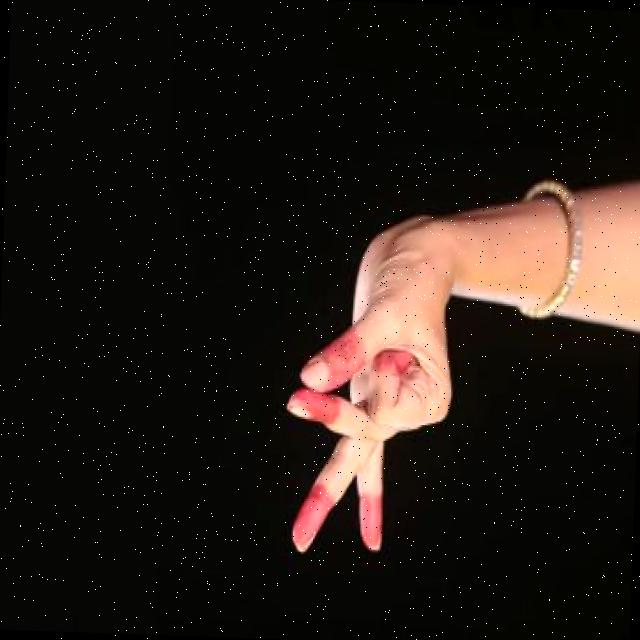Bhramara: (242, 187, 492, 595)
